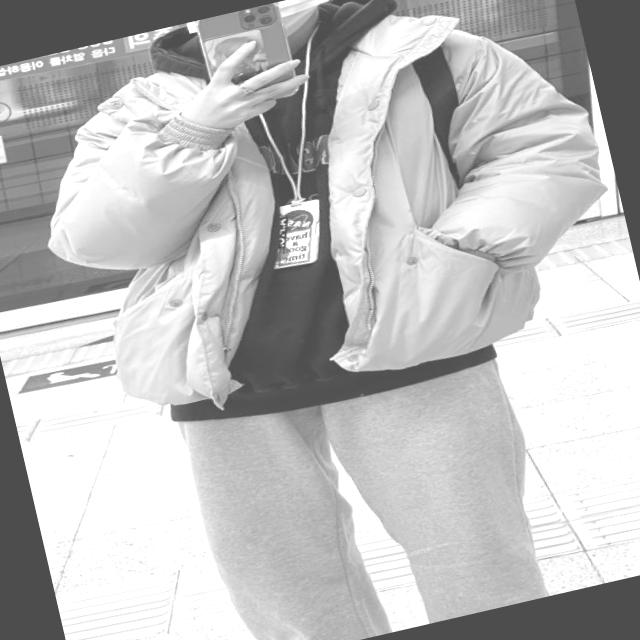padding: (9, 0, 640, 448)
trainingpants: (177, 340, 562, 640)
